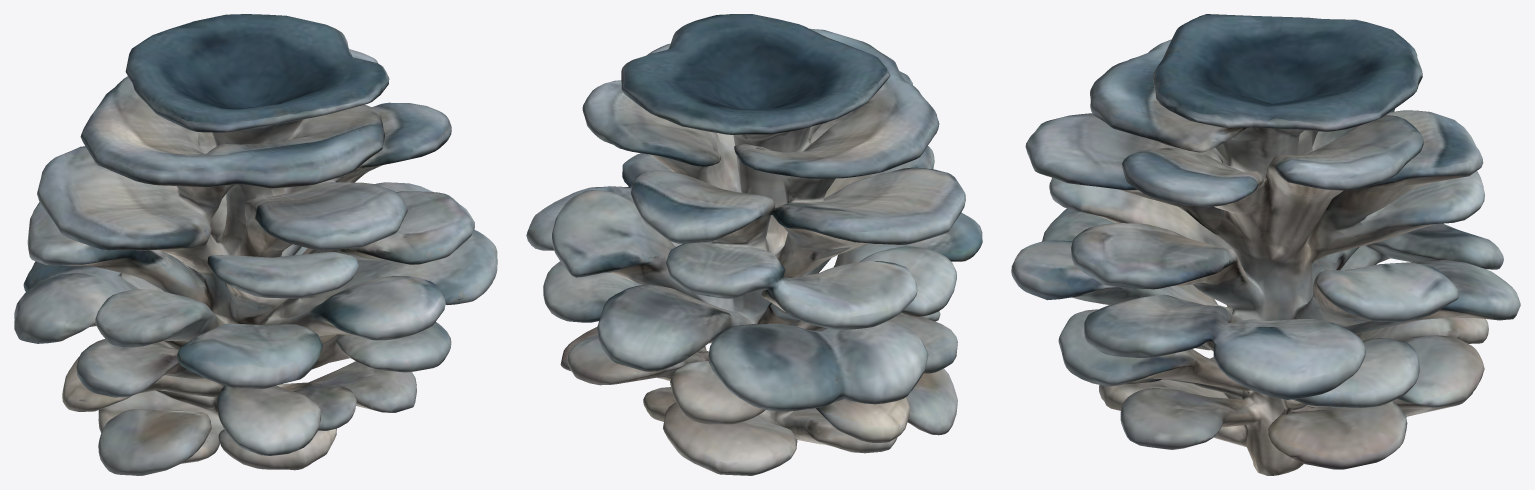
The model's file is mushroom.glb.
3 renders of one model, left to right at view 1: azimuth 30°, elevation 25°; view 2: azimuth 150°, elevation 25°; view 3: azimuth 270°, elevation 25°, orthographic. The views are drawn at different scales.
Visible parts, largest first — view 1: Mesh1.0_Material.001_0; view 2: Mesh1.0_Material.001_0; view 3: Mesh1.0_Material.001_0.
Boxes of the visible parts, left/top/right/bottom form: Mesh1.0_Material.001_0: left=14, top=14, right=497, bottom=475; Mesh1.0_Material.001_0: left=526, top=14, right=982, bottom=475; Mesh1.0_Material.001_0: left=1011, top=14, right=1520, bottom=475.
Size of the model in its own units: 1.99 by 1.78 by 1.99.
Materials: 1 (1 with a texture image).
